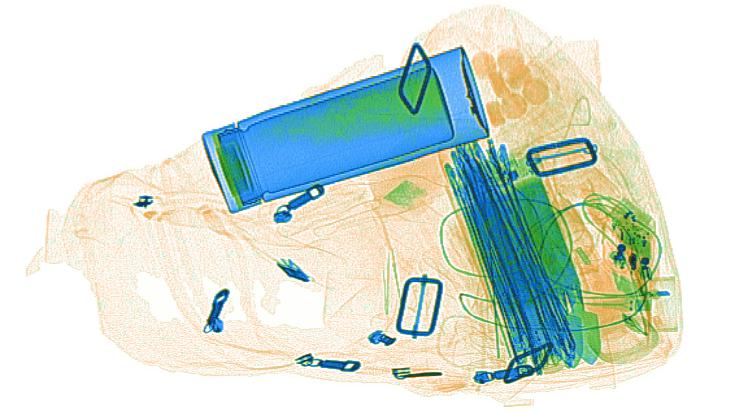plasticBottleWithaNozzle: (547, 192, 611, 294)
